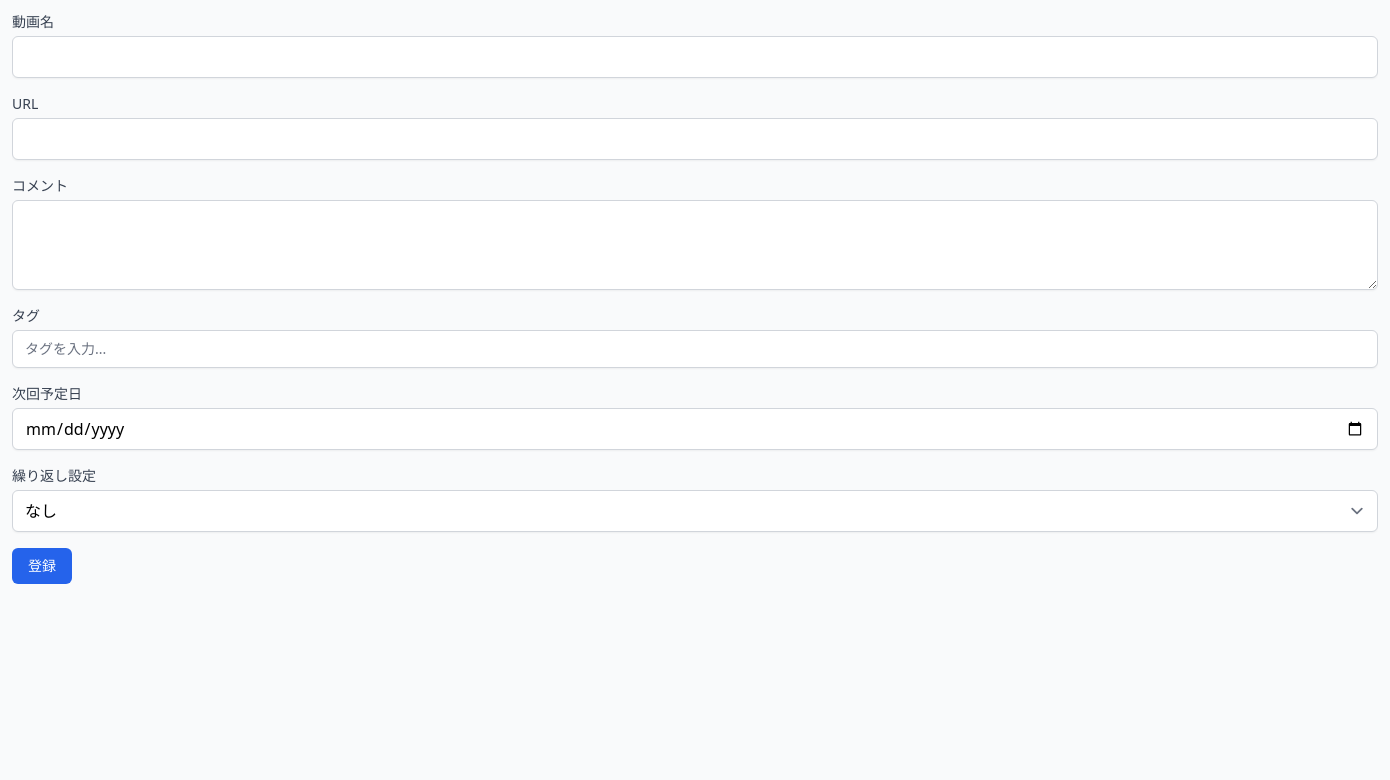
Scenario: loading and error › disables submit button while loading
In the field below "動画名": (695, 57) [12,36,1378,78], type "V"
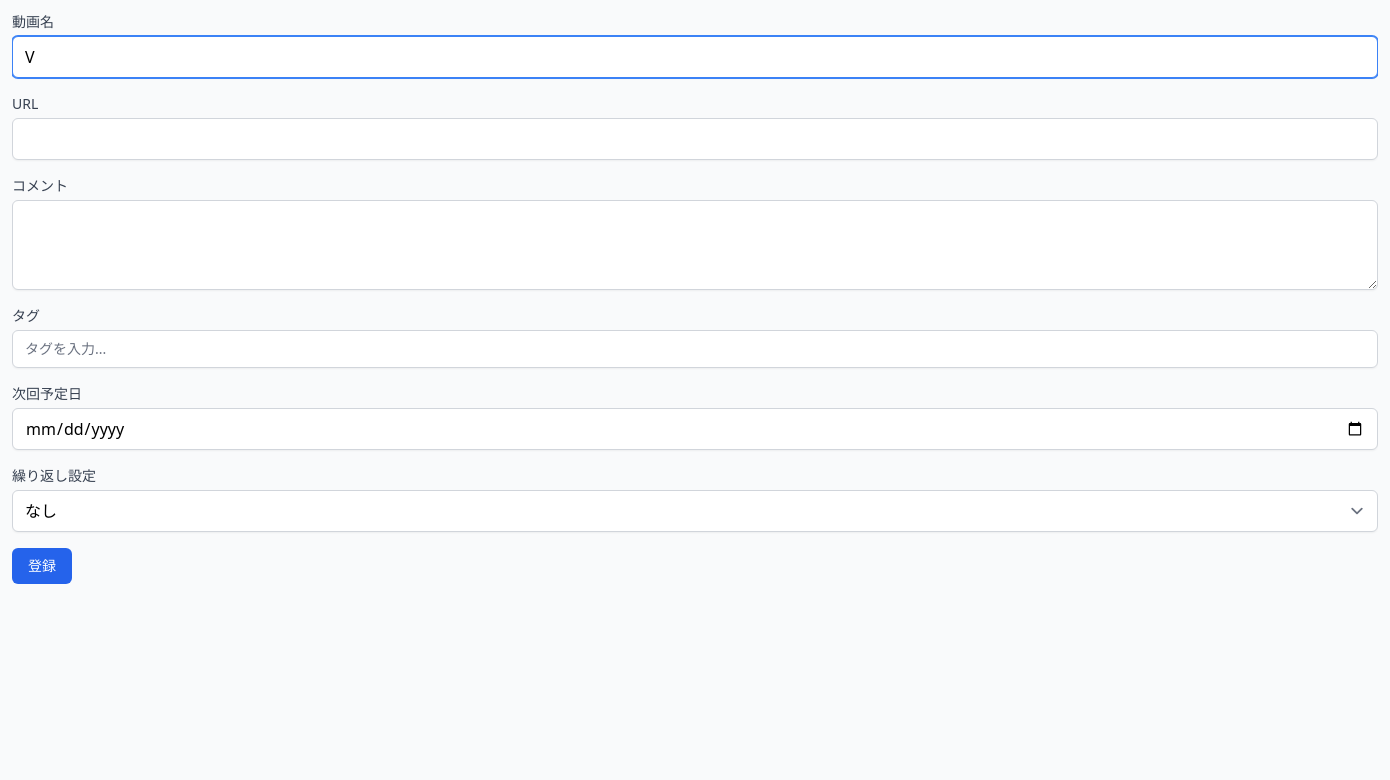
In the field below "URL": (695, 139) [12,118,1378,160], type "https://youtube.com/watch?v=1"
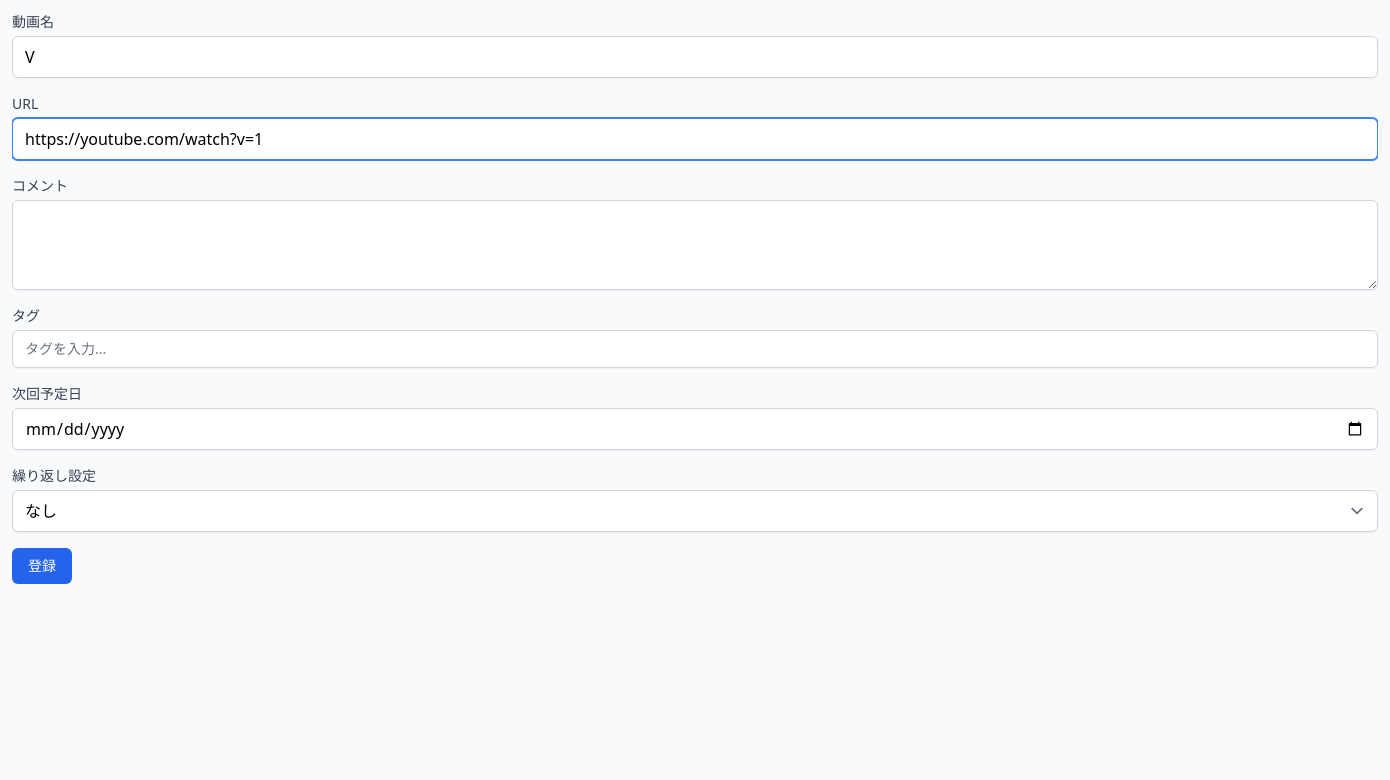
Click the button "登録": (42, 566) [12,548,72,584]
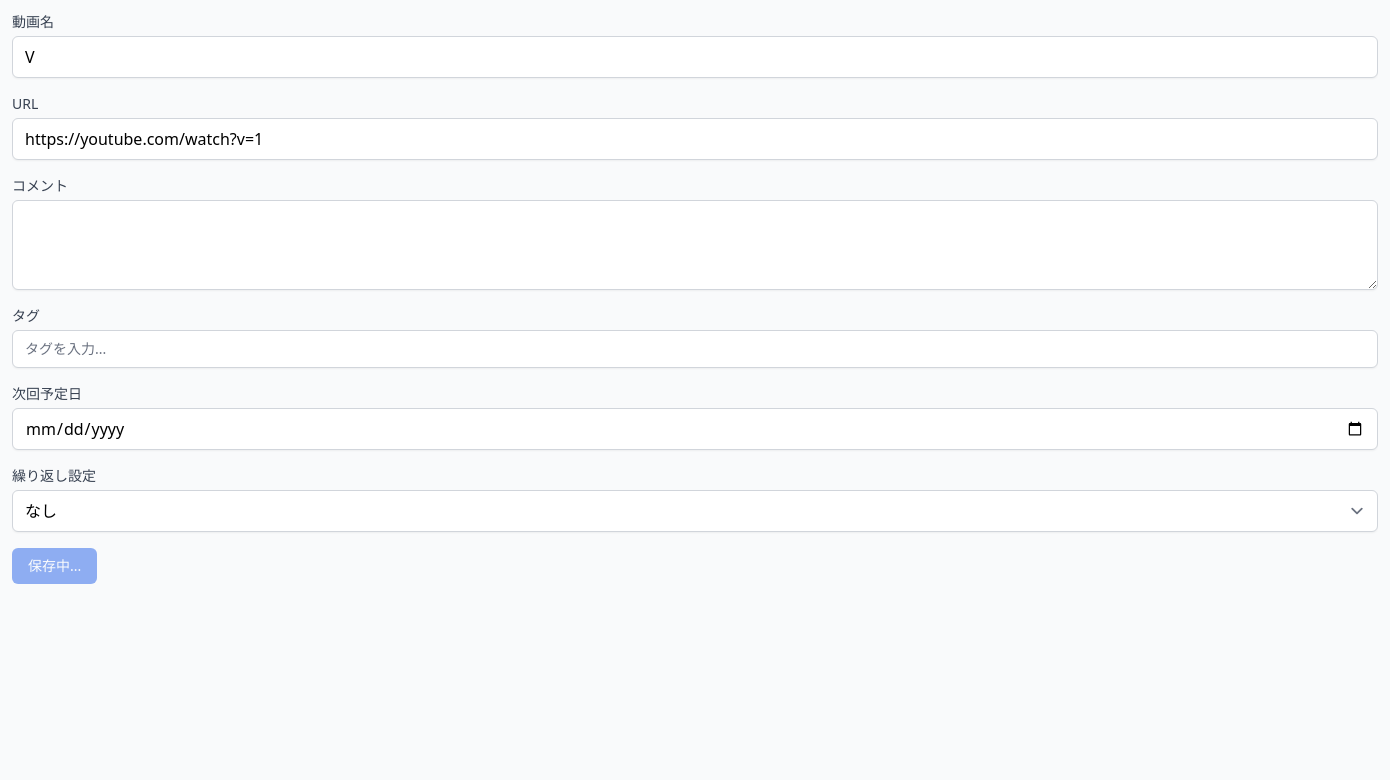
Check: the button "保存中..." is disabled, box [12,548,97,584]
